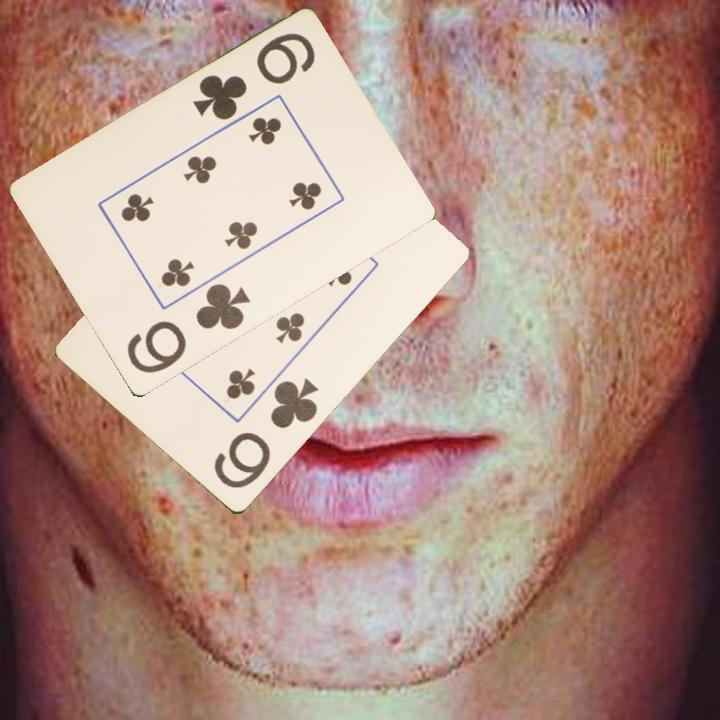6c: (210, 375, 322, 493), (123, 280, 253, 377), (189, 29, 319, 124)
